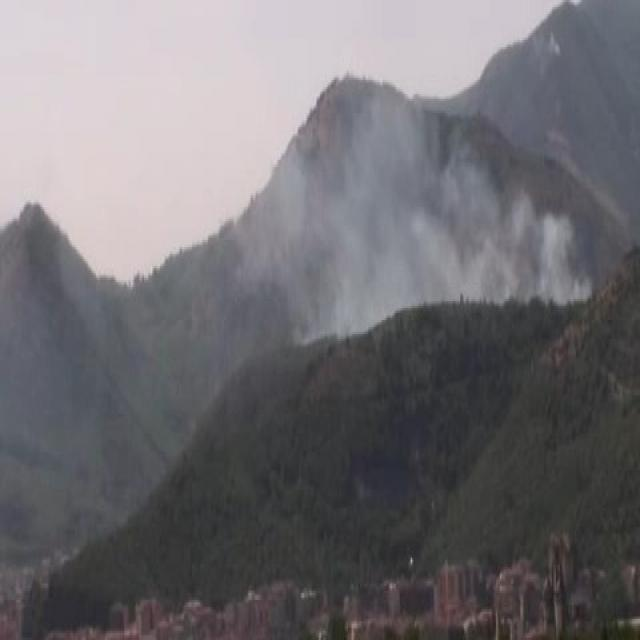smoke: (291, 140, 575, 301)
